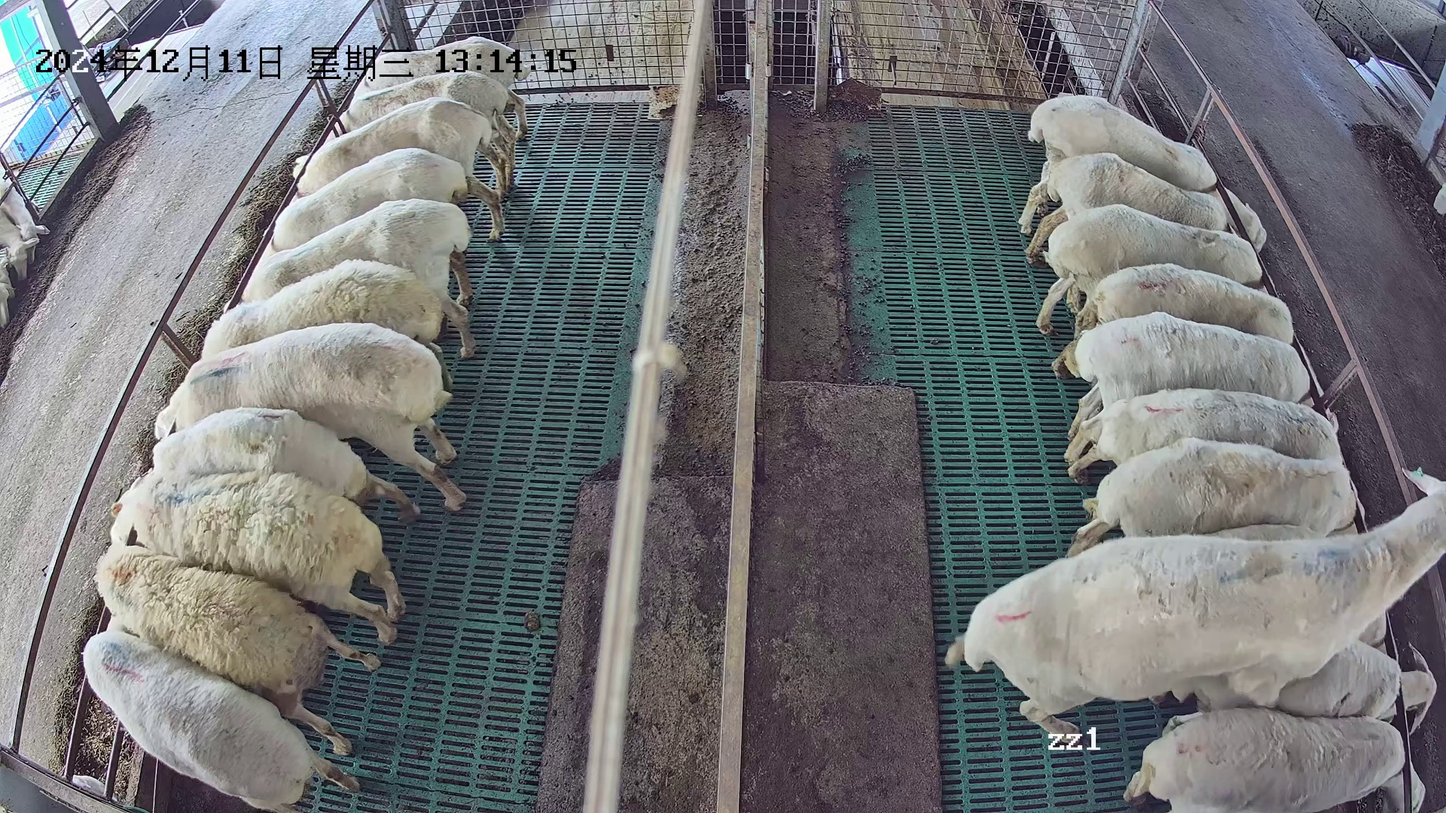Smounting: (943, 465, 1446, 741)
mounted: (1160, 635, 1438, 738)
